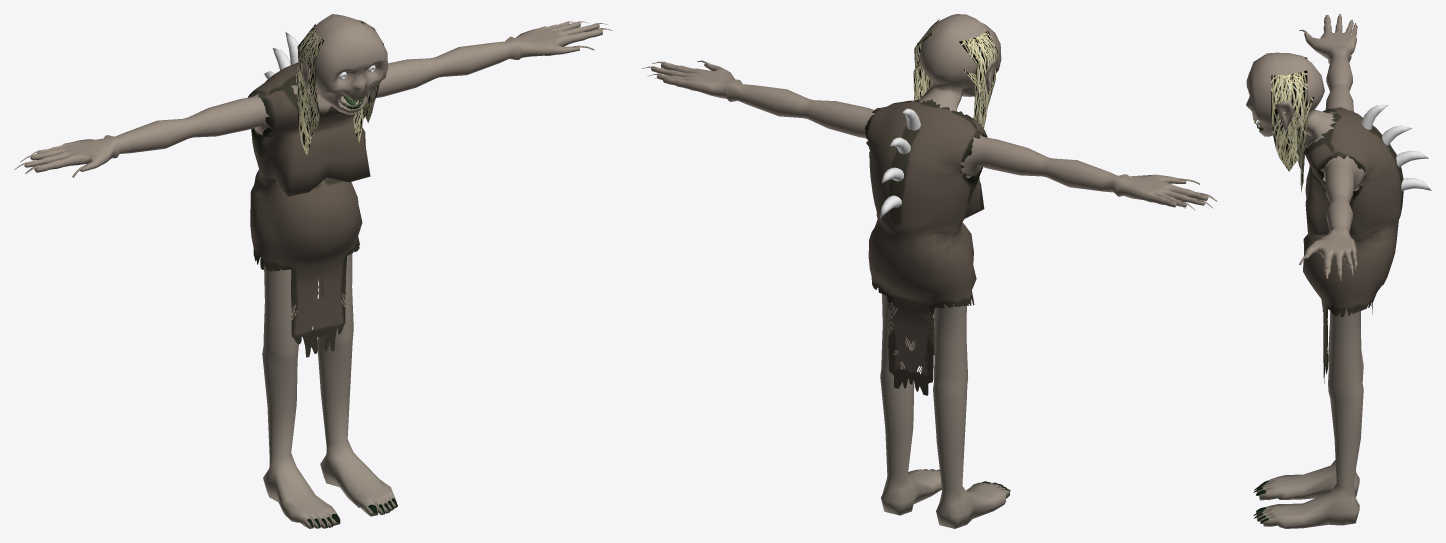
File: Monster.fbx
The picture shows the model from 3 angles, left to right: view 1: azimuth 30°, elevation 25°; view 2: azimuth 150°, elevation 25°; view 3: azimuth 270°, elevation 25°; orthographic projection. The views are drawn at different scales.
Parts seen in each view (by area): view 1: Dress, Head, Legs, Plane; view 2: Dress, Head, Legs, Plane, Spine; view 3: Dress, Head, Legs, Plane, Spine.
Part boxes in pixels (<box>): Dress: <box>248,62,370,357</box>; Head: <box>14,14,611,177</box>; Legs: <box>262,254,397,528</box>; Plane: <box>297,19,383,156</box>; Dress: <box>864,99,987,395</box>; Head: <box>642,14,1217,209</box>; Legs: <box>880,294,1010,528</box>; Plane: <box>913,19,997,128</box>; Spine: <box>880,108,920,218</box>; Dress: <box>1303,107,1403,383</box>; Head: <box>1246,14,1366,280</box>; Legs: <box>1253,307,1363,528</box>; Plane: <box>1271,57,1314,192</box>; Spine: <box>1361,104,1431,191</box>.
Size of the model in its own units: 1227 by 970 by 361.
